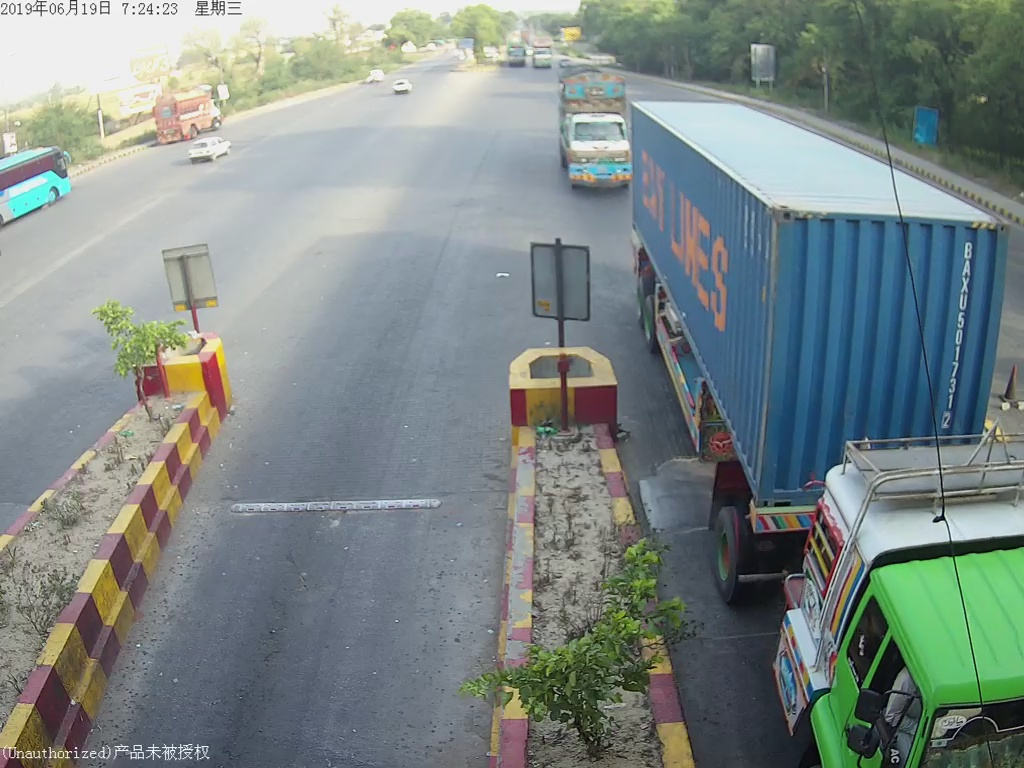Cat-4: (559, 72, 629, 205)
Cat-5: (633, 99, 1024, 755)
